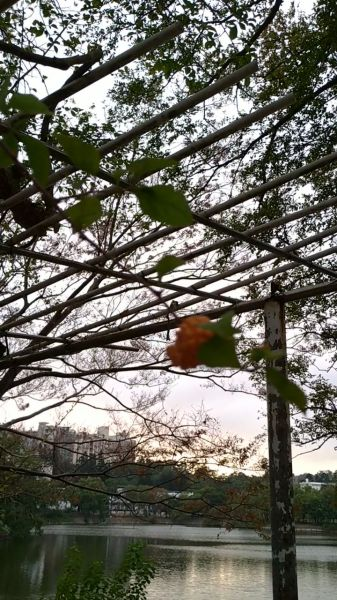eggs: (161, 309, 223, 370)
